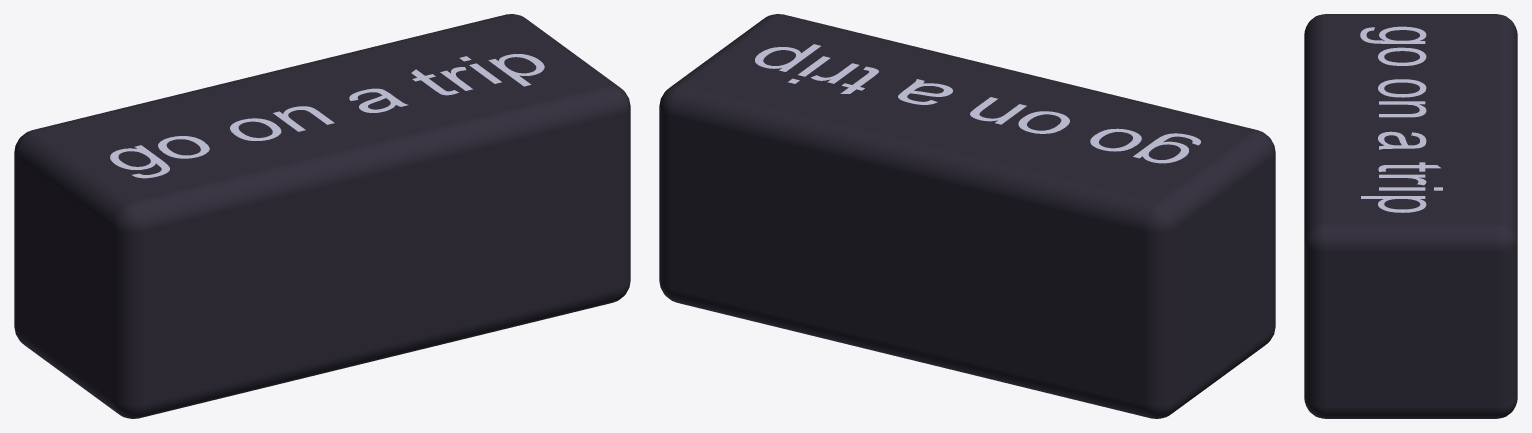
File: go_on_trip.glb
3 views of the same model, side by side, from view 1: azimuth 30°, elevation 25°; view 2: azimuth 150°, elevation 25°; view 3: azimuth 270°, elevation 25° (orthographic). The views are drawn at different scales.
Parts seen in each view (by area): view 1: Cut, Extrude; view 2: Cut, Extrude; view 3: Cut, Extrude.
Part boxes in pixels (left/top/right/bottom): Cut: left=14, top=14, right=630, bottom=418; Extrude: left=110, top=54, right=544, bottom=178; Cut: left=659, top=14, right=1275, bottom=418; Extrude: left=755, top=44, right=1200, bottom=163; Cut: left=1304, top=14, right=1517, bottom=418; Extrude: left=1360, top=26, right=1442, bottom=212.
Size of the model in its own units: 5 by 2 by 2.
